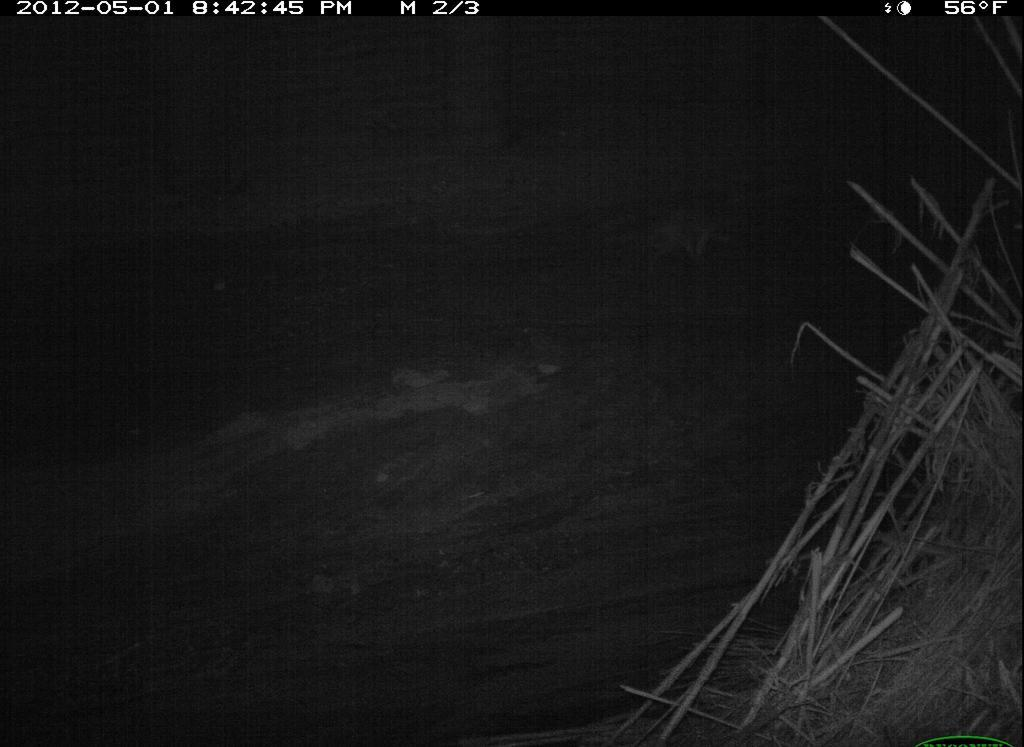raccoon: (649, 181, 753, 265)
